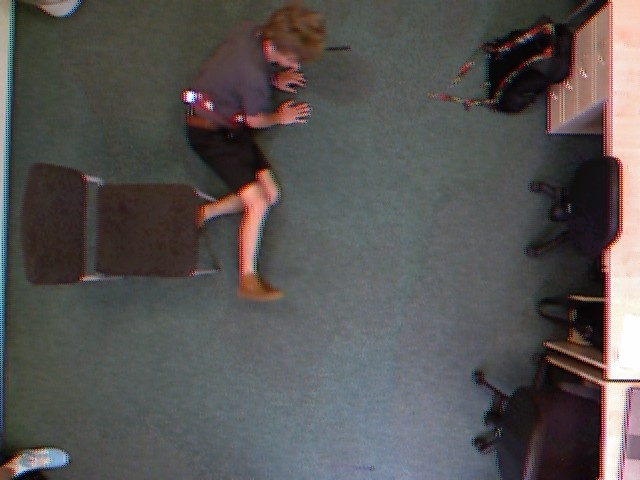fall: (165, 0, 336, 306)
not_fallen: (0, 431, 77, 475)
